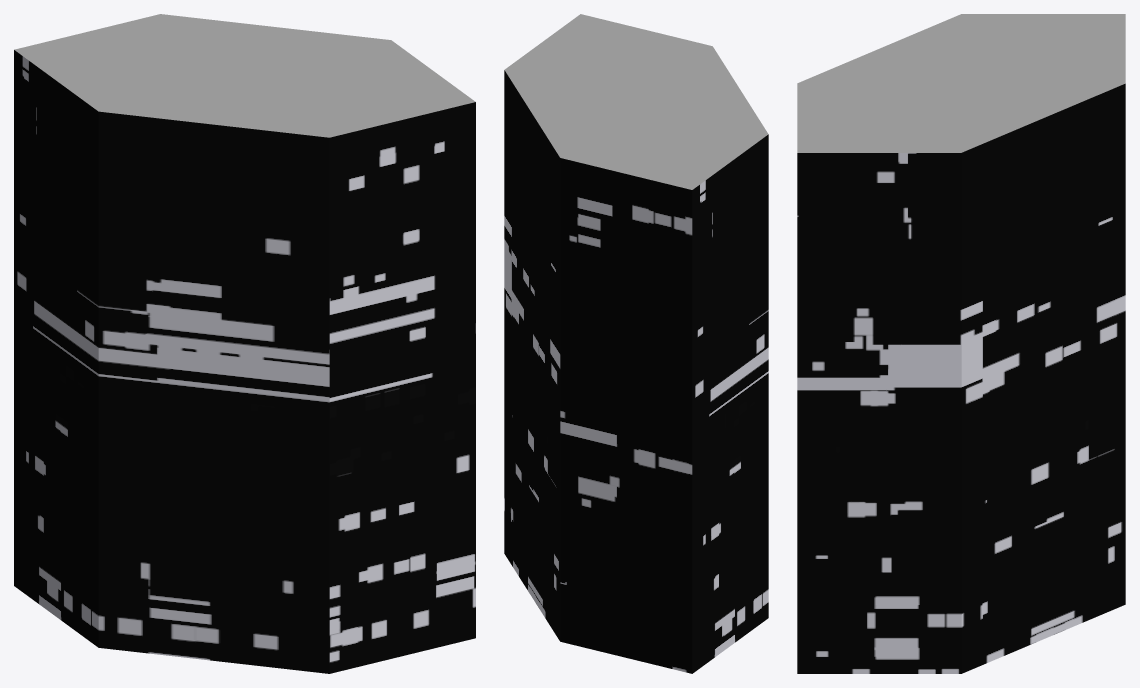
File: Building06.fbx
3 views of the same model, side by side, from view 1: azimuth 30°, elevation 25°; view 2: azimuth 150°, elevation 25°; view 3: azimuth 270°, elevation 25° (orthographic). The views are drawn at different scales.
Parts seen in each view (by area): view 1: Building06; view 2: Building06; view 3: Building06.
Boxes of the visible parts, x1,y1,x2,y2 form: Building06: (14, 14, 475, 673); Building06: (504, 14, 768, 673); Building06: (797, 14, 1125, 673).
Size of the model in its own units: 0.3639 by 0.6368 by 0.3639.
